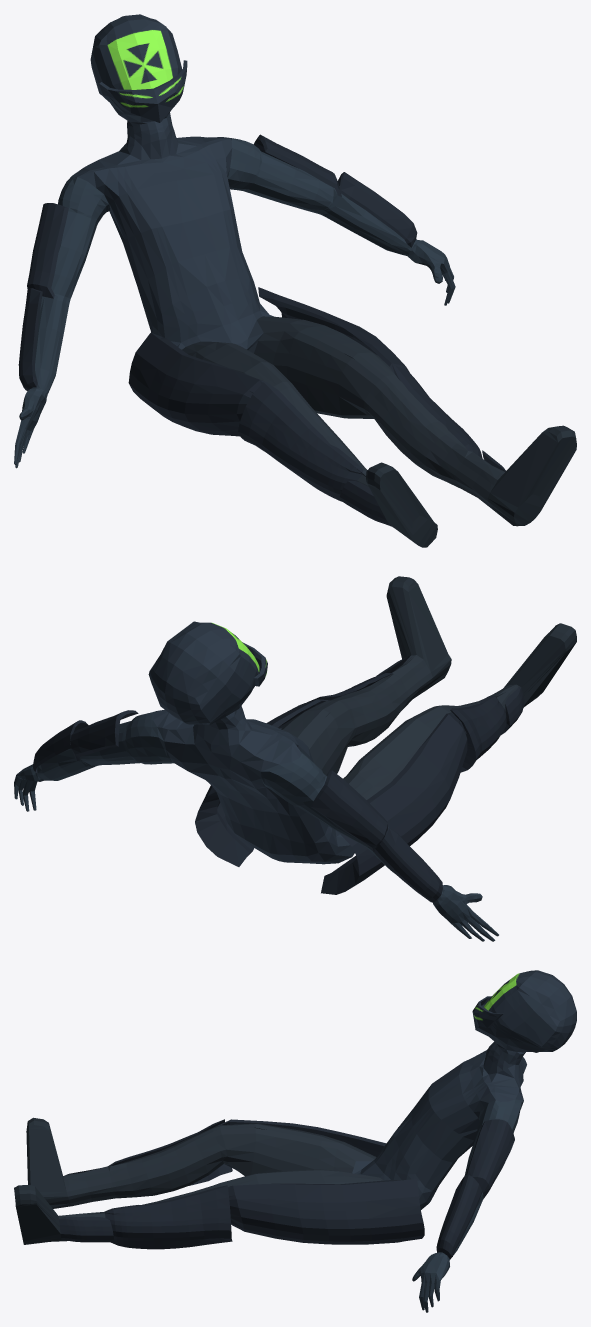
Rendered from Bastion_Die_000008.obj.
3 renders of one model, top to bottom at view 1: azimuth 30°, elevation 25°; view 2: azimuth 150°, elevation 25°; view 3: azimuth 270°, elevation 25°, orthographic. The views are drawn at different scales.
Parts seen in each view (by area): view 1: Cube.002; view 2: Cube.002; view 3: Cube.002.
Part boxes in pixels (<box>): Cube.002: <box>14,14,576,547</box>; Cube.002: <box>14,576,576,941</box>; Cube.002: <box>14,970,576,1312</box>.
Size of the model in its own units: 2.6 by 1.78 by 3.35.
